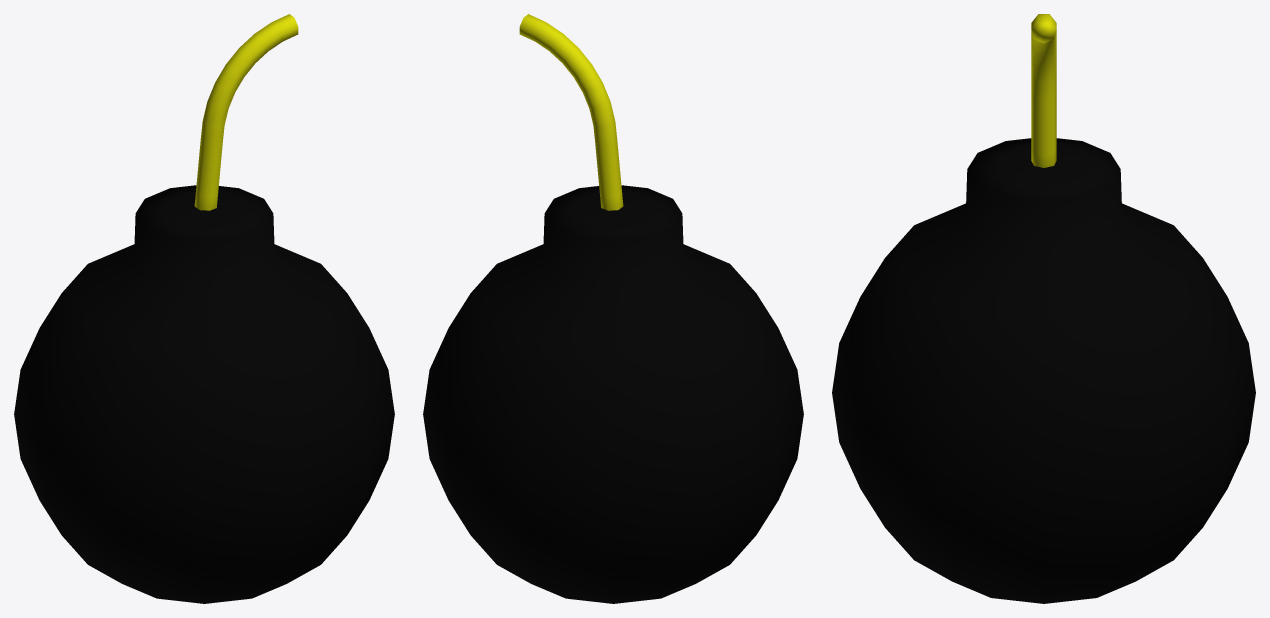
Rendered from bomb.fbx.
3 views of the same model, side by side, from view 1: azimuth 30°, elevation 25°; view 2: azimuth 150°, elevation 25°; view 3: azimuth 270°, elevation 25° (orthographic). The views are drawn at different scales.
Parts seen in each view (by area): view 1: bomb; view 2: bomb; view 3: bomb.
Boxes of the visible parts, <box> form: bomb: <box>14,14,394,603</box>; bomb: <box>423,14,803,603</box>; bomb: <box>832,14,1255,603</box>.
Size of the model in its own units: 1.15 by 1.83 by 1.15.
